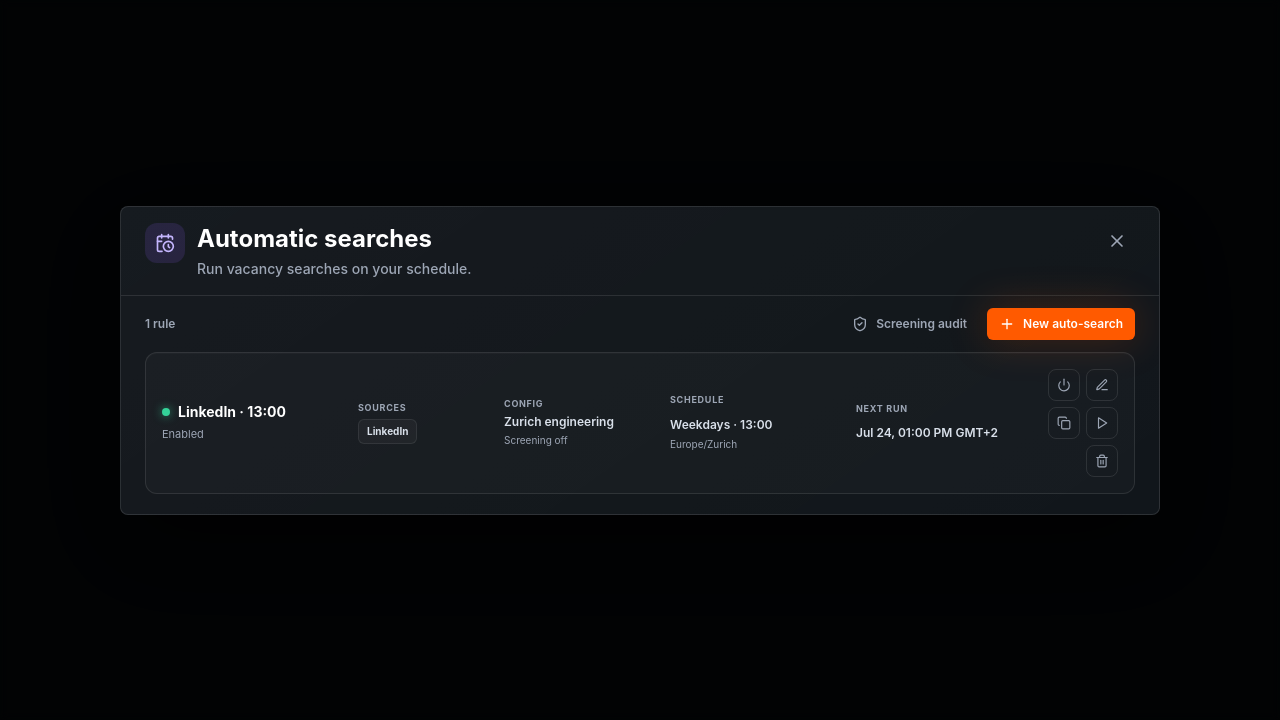
Test: AutoSearchDialog › shows persisted rules and runs one immediately
The width and height of the screenshot is (1280, 720).
Expected: the heading "LinkedIn · 13:00" is shown, [178, 402, 286, 422]
Expected: the text "LinkedIn" is shown, [358, 419, 418, 444]
Step 1. Click the button named "Run LinkedIn · 13:00 now" → [1102, 422], box [1086, 406, 1118, 438]
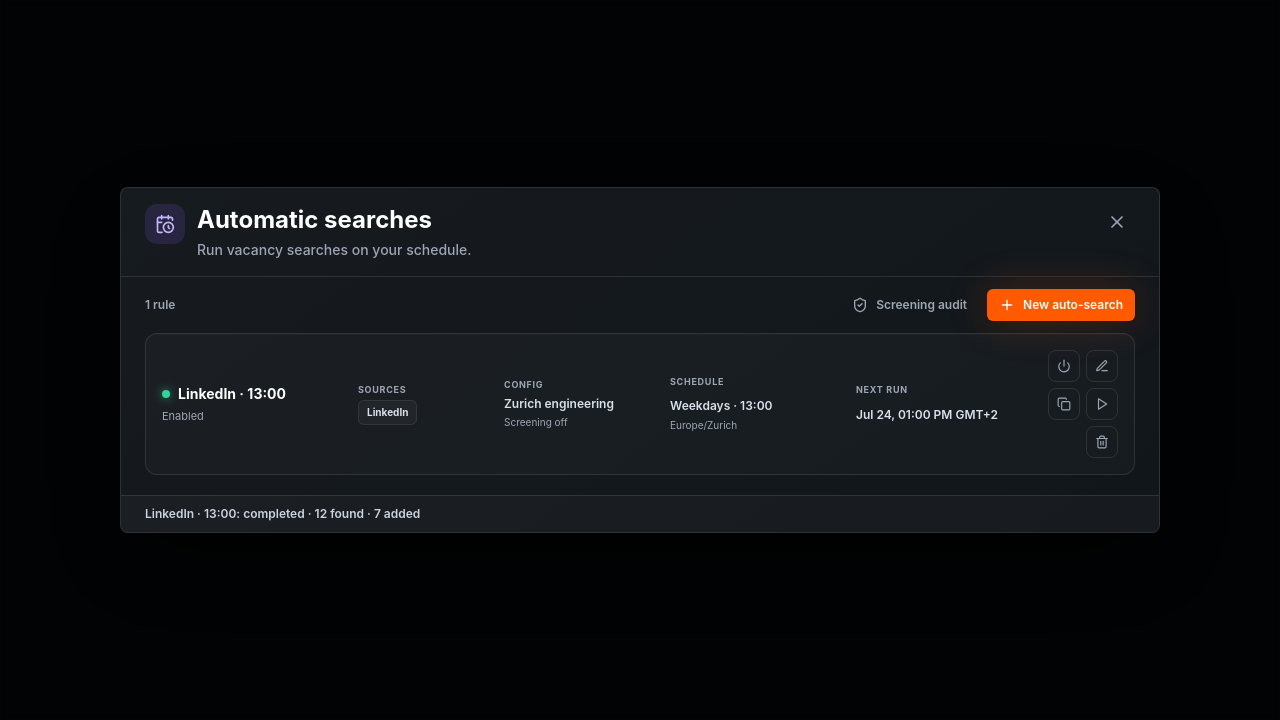
Now the text "LinkedIn · 13:00: completed · 12 found · 7 added" is shown, box [121, 495, 1159, 532]
